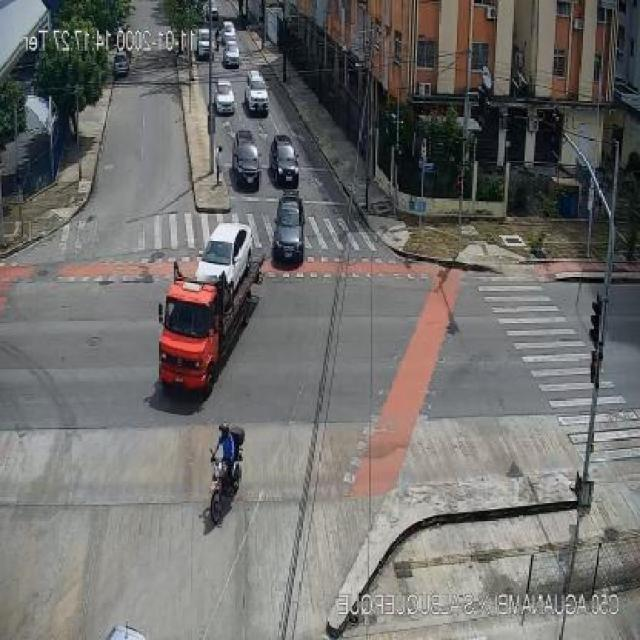Car: (195, 222, 253, 294), (272, 197, 306, 267), (232, 129, 260, 188), (270, 134, 299, 186), (246, 71, 270, 114), (213, 81, 236, 115), (195, 27, 214, 58), (112, 52, 130, 78), (222, 40, 240, 66), (222, 21, 238, 42)
Cycle: (208, 445, 244, 524), (214, 36, 221, 51)
Truck: (156, 230, 262, 398)
